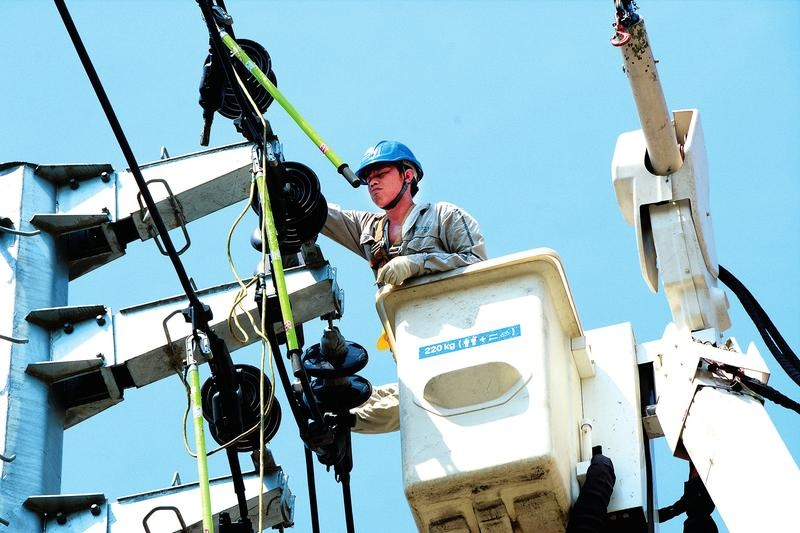blue: (353, 137, 426, 213)
